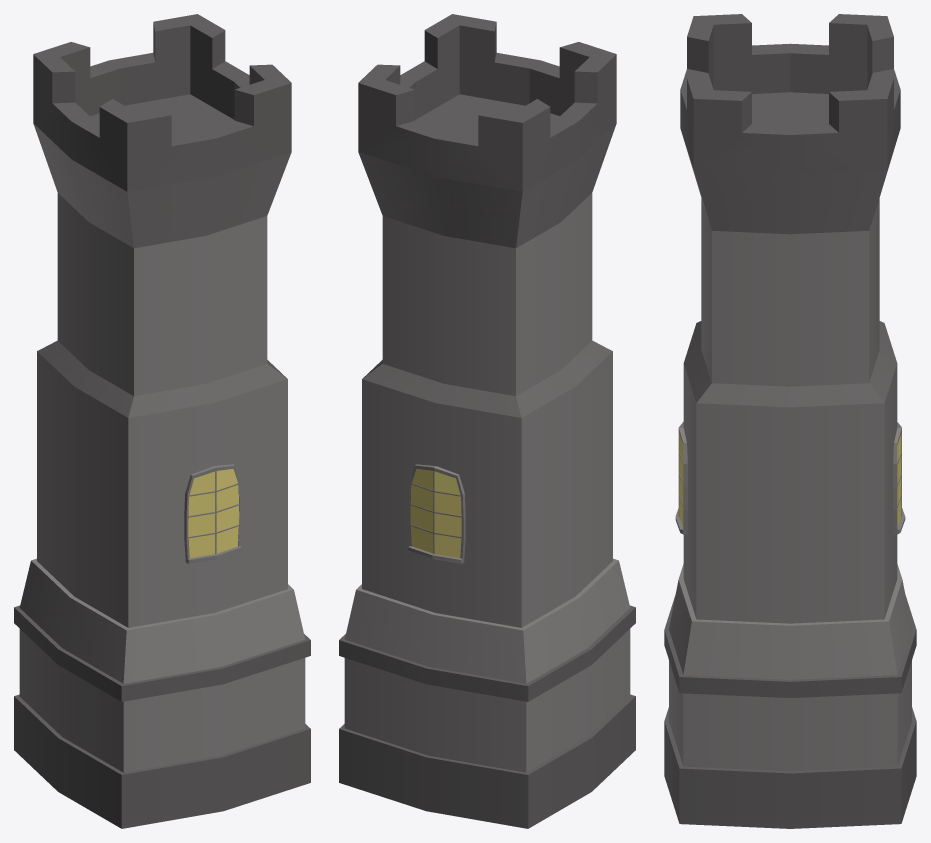
Rendered from mesh_Wall_Tower_Window.fbx.
3 renders of one model, left to right at view 1: azimuth 30°, elevation 25°; view 2: azimuth 150°, elevation 25°; view 3: azimuth 270°, elevation 25°, orthographic. The views are drawn at different scales.
Visible parts, largest first — view 1: Wall_Tower_Window; view 2: Wall_Tower_Window; view 3: Wall_Tower_Window.
Part boxes in pixels (x1,y1,x2,y2): Wall_Tower_Window: (14, 14, 310, 828); Wall_Tower_Window: (339, 14, 635, 828); Wall_Tower_Window: (664, 14, 916, 828).
Bounding box in the file's own units: 785 × 2509 × 797.
Materials: 1 (1 with a texture image).
